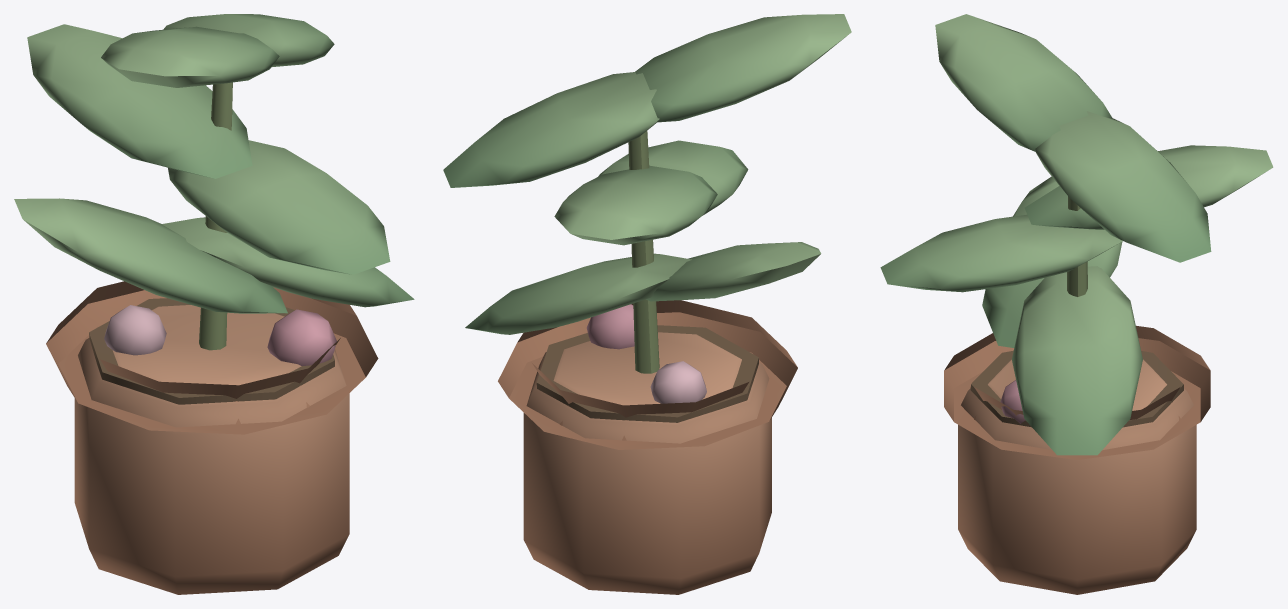
Rendered from flower_pot.glb.
3 renders of one model, left to right at view 1: azimuth 30°, elevation 25°; view 2: azimuth 150°, elevation 25°; view 3: azimuth 270°, elevation 25°, orthographic. The views are drawn at different scales.
Visible parts, largest first — view 1: flower_pot; view 2: flower_pot; view 3: flower_pot.
Boxes of the visible parts, <box> form: flower_pot: <box>14,14,414,594</box>; flower_pot: <box>443,14,851,594</box>; flower_pot: <box>880,14,1273,594</box>.
Bounding box in the file's own units: 0.6194 × 0.8869 × 0.659.
